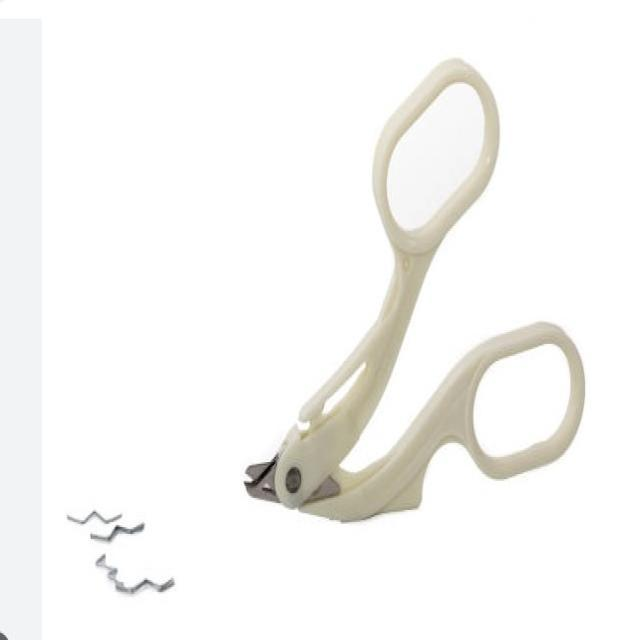Stapler Remover: (239, 48, 589, 526)
